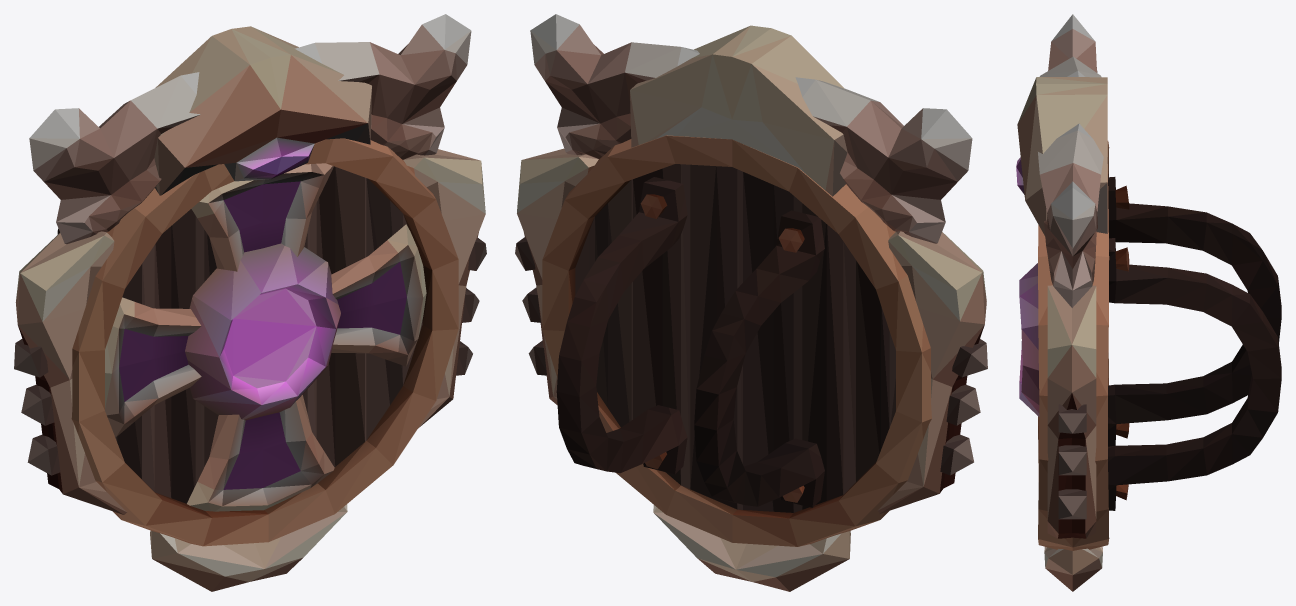
Rendered from weapon_shield_bronze_4.fbx.
The picture shows the model from 3 angles, left to right: view 1: azimuth 30°, elevation 25°; view 2: azimuth 150°, elevation 25°; view 3: azimuth 270°, elevation 25°; orthographic projection. The views are drawn at different scales.
Visible parts, largest first — view 1: weapon_shield_bronze_4; view 2: weapon_shield_bronze_4; view 3: weapon_shield_bronze_4.
Boxes of the visible parts, x1,y1,x2,y2 form: weapon_shield_bronze_4: [14, 14, 486, 591]; weapon_shield_bronze_4: [515, 14, 987, 591]; weapon_shield_bronze_4: [1016, 14, 1281, 591].
Bounding box in the file's own units: 0.8146 × 0.8882 × 0.4345.
